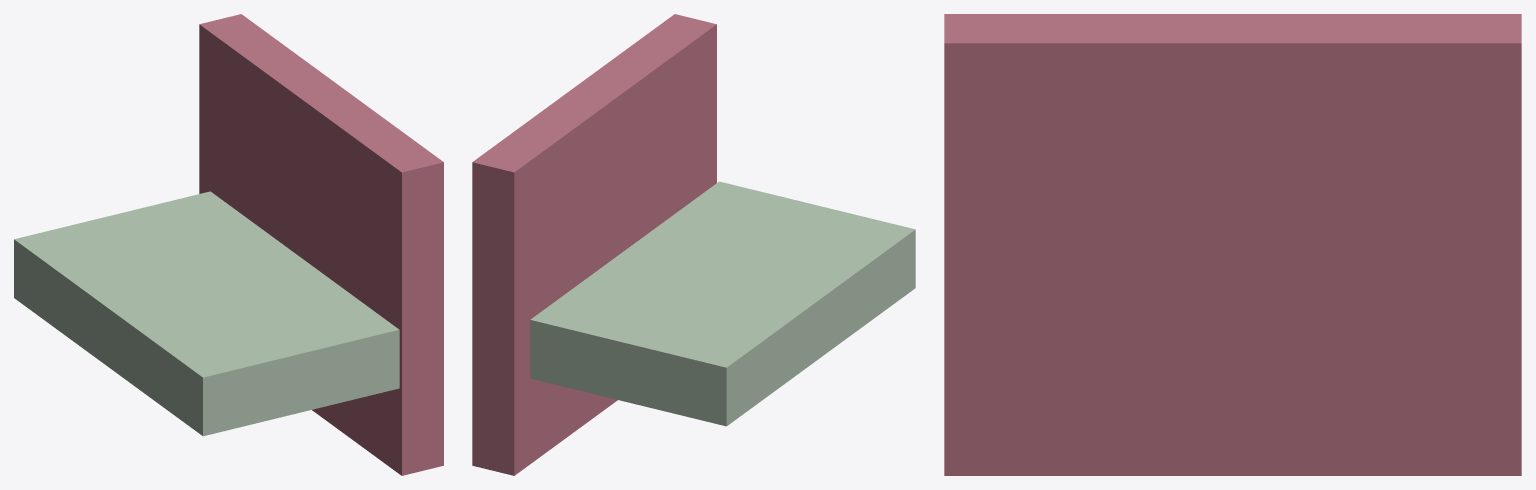
3 views of the same model, side by side, from view 1: azimuth 30°, elevation 25°; view 2: azimuth 150°, elevation 25°; view 3: azimuth 270°, elevation 25° (orthographic). The views are drawn at different scales.
Parts seen in each view (by area): view 1: world; view 2: world; view 3: world.
Part boxes in pixels (x1,y1,x2,y2): world: [14, 14, 443, 475]; world: [472, 14, 915, 475]; world: [944, 14, 1521, 475].
Bounding box in the file's own units: 5.15 × 6.2 × 7.5.
